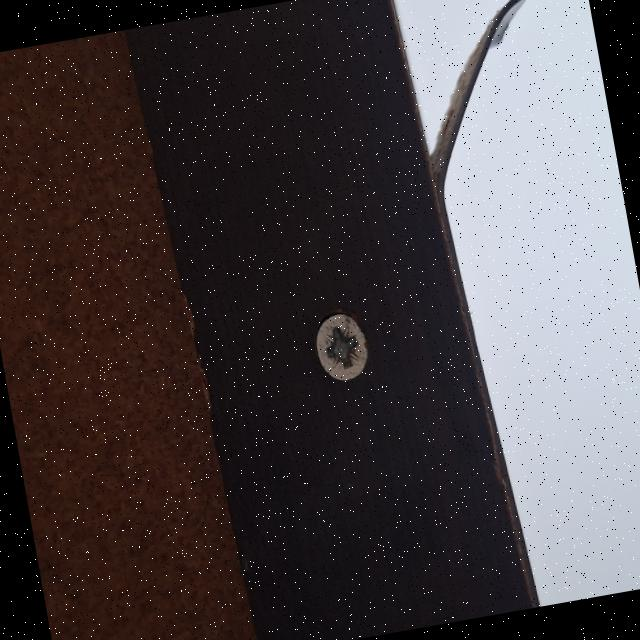Pozidriv: (308, 312, 376, 384)
